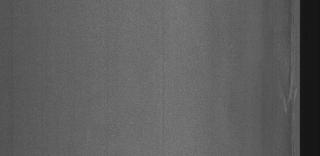silk spot: (272, 8, 300, 122)
